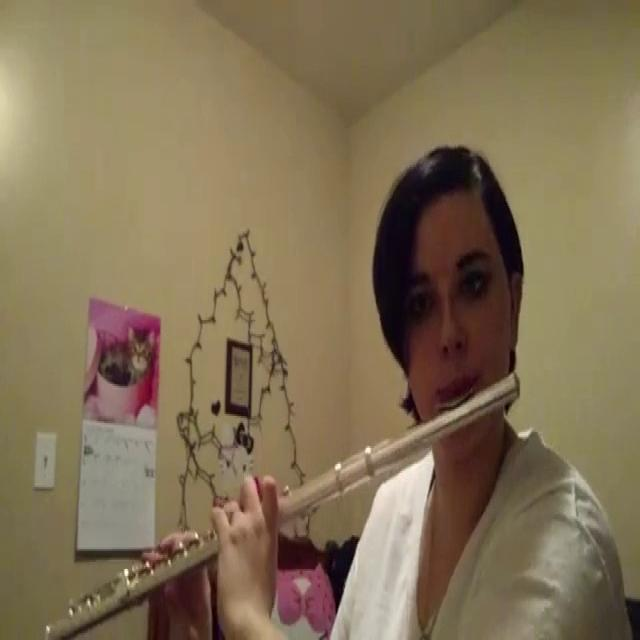Flute: (37, 359, 533, 640)
